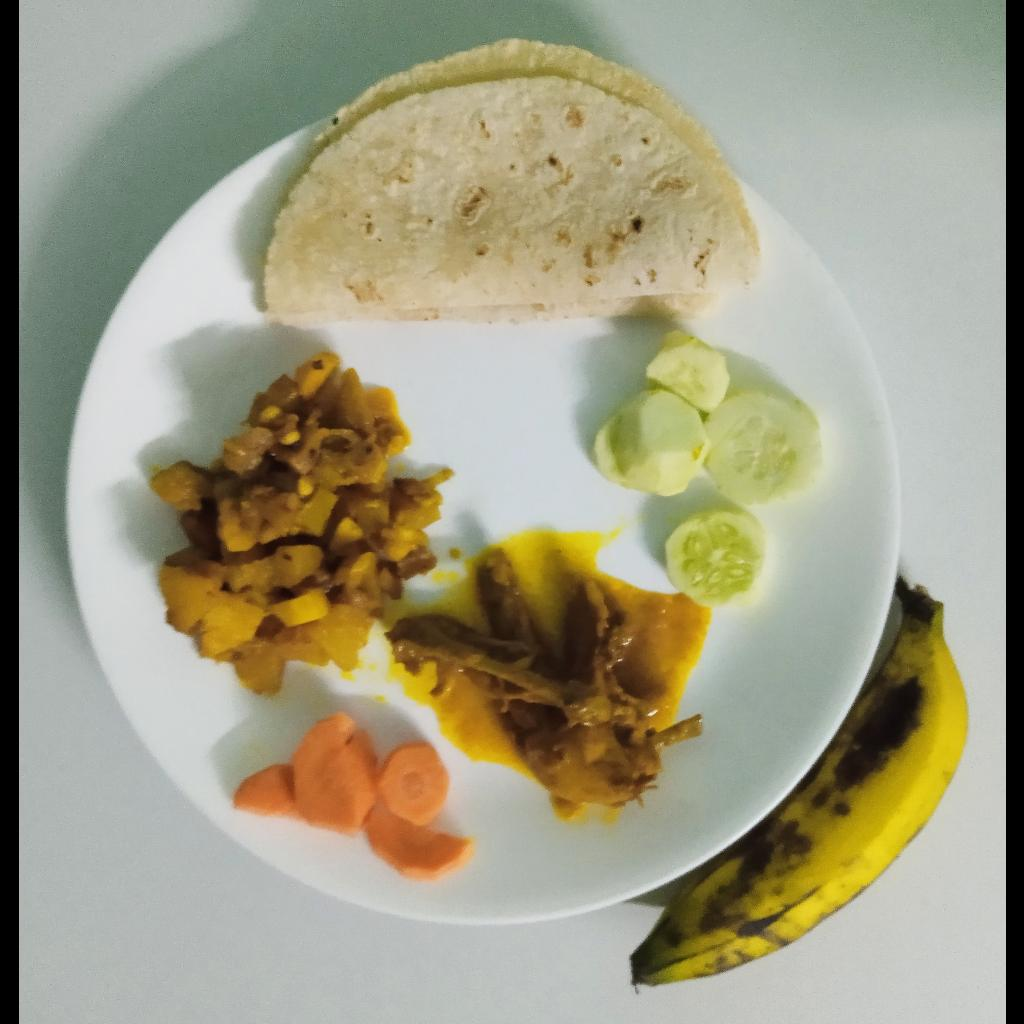banana: (627, 591, 969, 985)
carrot: (233, 712, 475, 882)
chicken: (386, 549, 705, 818)
cucumber: (594, 333, 821, 506), (667, 508, 768, 609)
kumra-vaji: (148, 354, 456, 695)
ruti: (266, 38, 757, 328)
